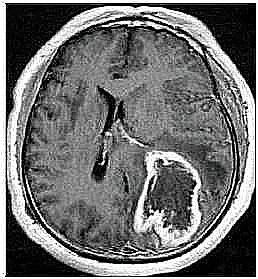Tumor: (132, 149, 202, 247)
